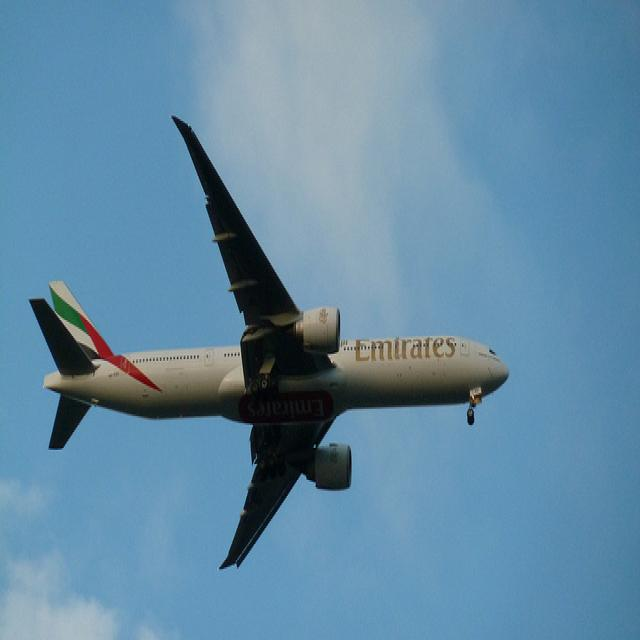airplane: (26, 114, 510, 574)
